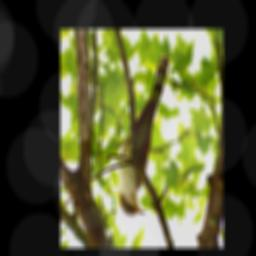Cuckoo: (117, 53, 170, 217)
